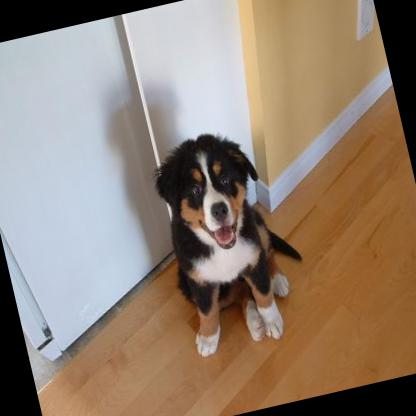Bernese_mountain_dog: (144, 119, 319, 360)
